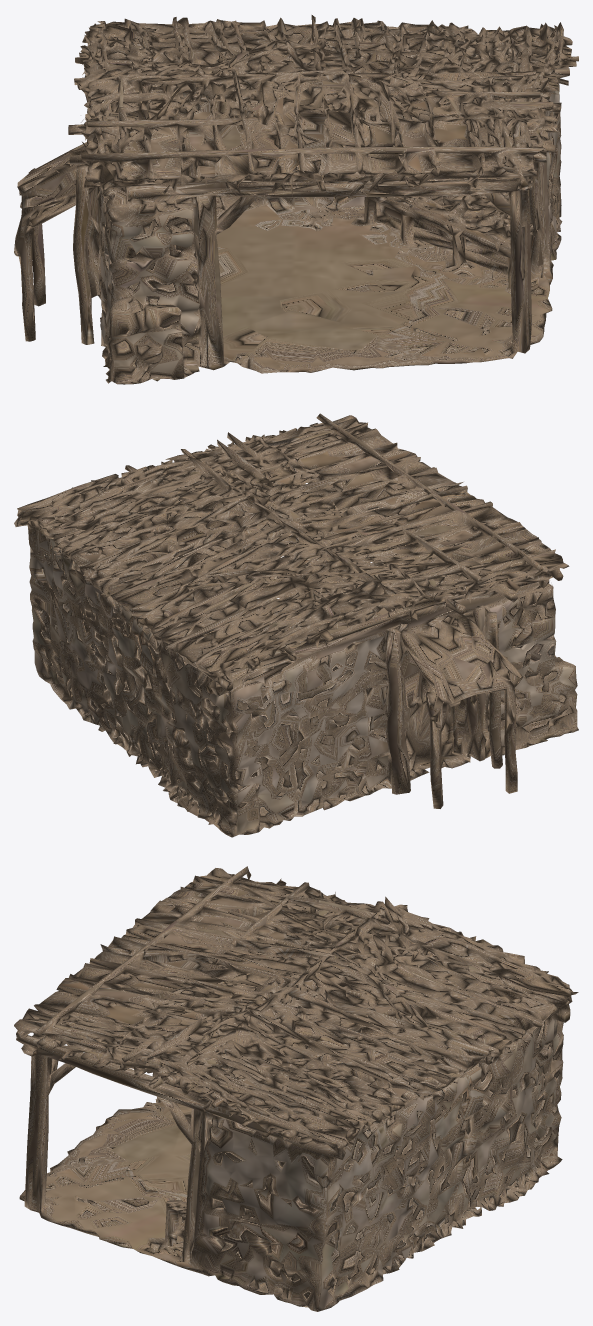
The model's file is nativity-stone-stall.glb.
3 renders of one model, top to bottom at view 1: azimuth 30°, elevation 25°; view 2: azimuth 150°, elevation 25°; view 3: azimuth 270°, elevation 25°, orthographic. The views are drawn at different scales.
Parts seen in each view (by area): view 1: geometry_0; view 2: geometry_0; view 3: geometry_0.
Part boxes in pixels (x1,y1,x2,y2): geometry_0: [14, 15, 578, 384]; geometry_0: [14, 413, 578, 837]; geometry_0: [14, 866, 578, 1311].
Size of the model in its own units: 7.81 by 3.06 by 7.27.
1 material, 1 textured.
